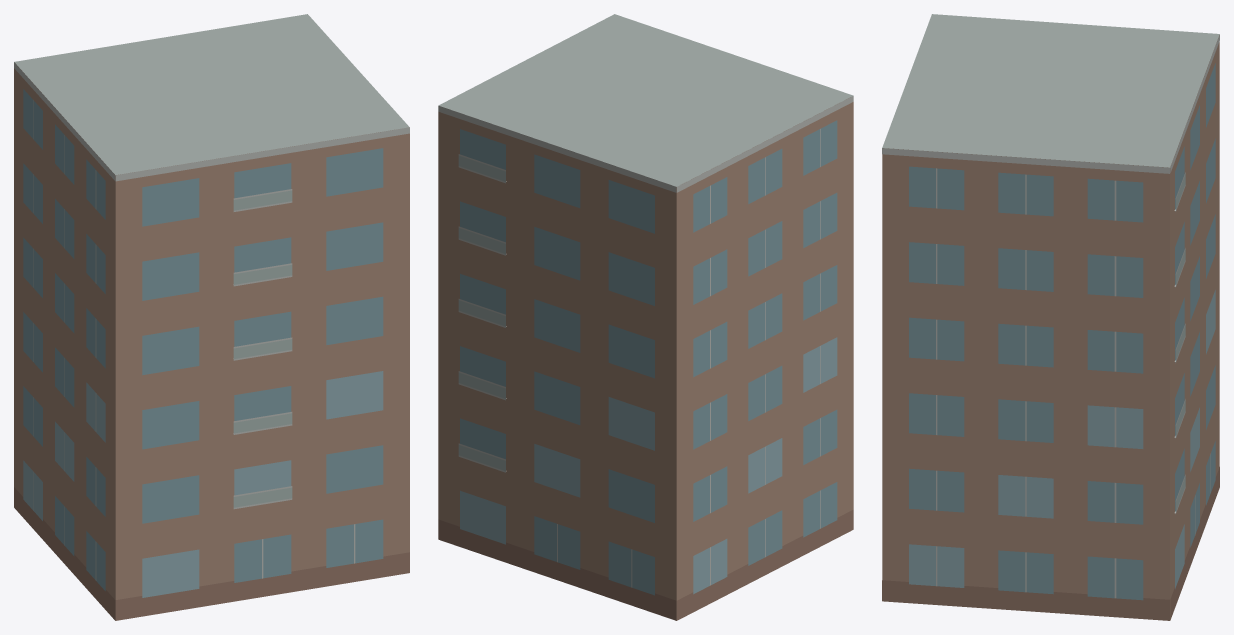
Rendered from survey-upis-32910452.glb.
3 renders of one model, left to right at view 1: azimuth 30°, elevation 25°; view 2: azimuth 150°, elevation 25°; view 3: azimuth 270°, elevation 25°, orthographic. The views are drawn at different scales.
Visible parts, largest first — view 1: survey-upis-32910452.tmp; view 2: survey-upis-32910452.tmp; view 3: survey-upis-32910452.tmp.
Boxes of the visible parts, x1,y1,x2,y2 form: survey-upis-32910452.tmp: (14,14,409,620); survey-upis-32910452.tmp: (438,14,853,620); survey-upis-32910452.tmp: (882,14,1219,620).
Size of the model in its own units: 12.65 by 17.4 by 11.76.
